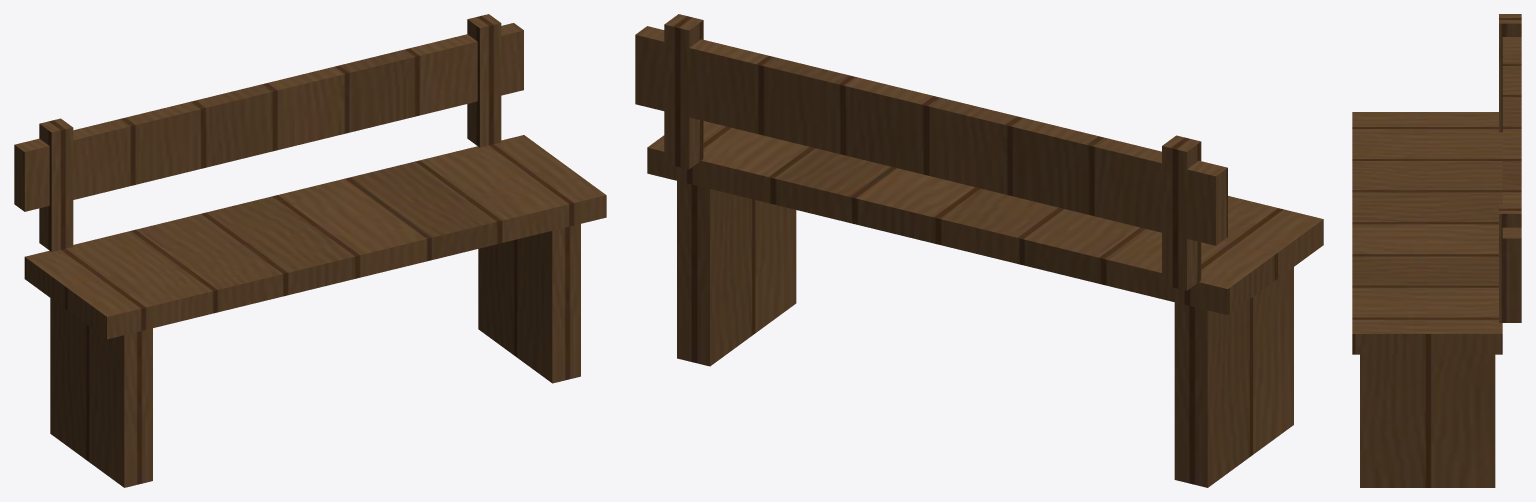
File: bench.glb
3 views of the same model, side by side, from view 1: azimuth 30°, elevation 25°; view 2: azimuth 150°, elevation 25°; view 3: azimuth 270°, elevation 25° (orthographic). The views are drawn at different scales.
Parts seen in each view (by area): view 1: prop.bench; view 2: prop.bench; view 3: prop.bench.
Part boxes in pixels (bbox=[...]): prop.bench: bbox=[14, 14, 606, 487]; prop.bench: bbox=[635, 14, 1323, 487]; prop.bench: bbox=[1352, 14, 1521, 487].
Bounding box in the file's own units: 1.4 × 0.8 × 0.45.
Materials: 1 (1 with a texture image).
